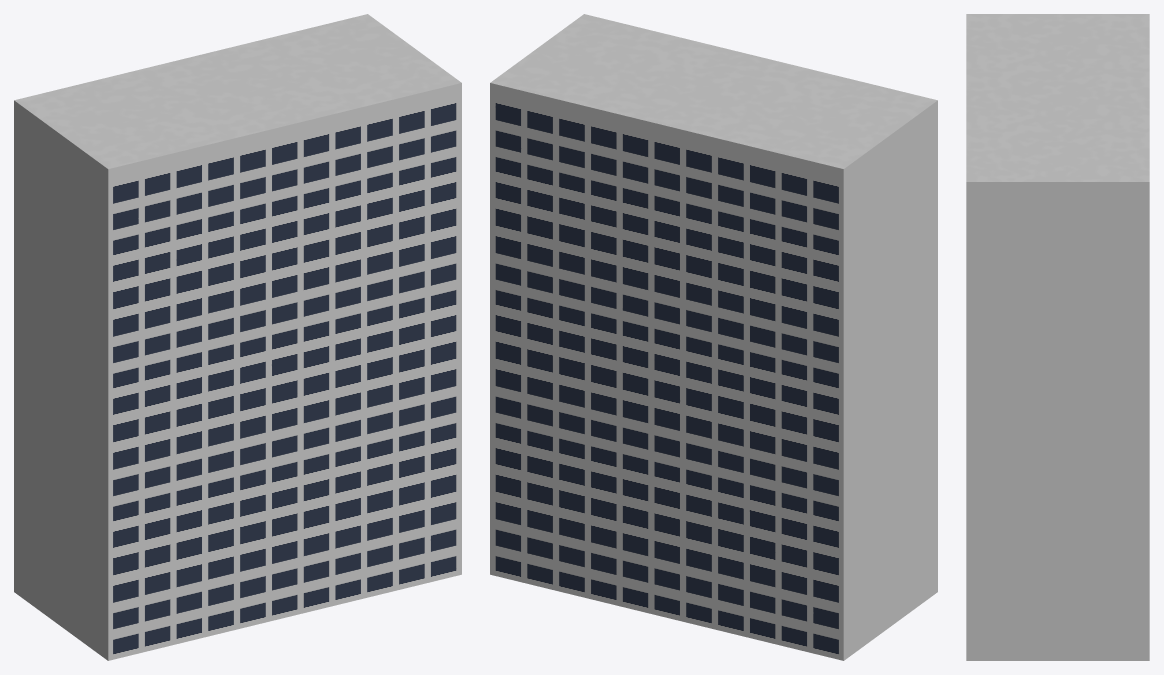
Rendered from Building_LM_W4_001.fbx.
3 renders of one model, left to right at view 1: azimuth 30°, elevation 25°; view 2: azimuth 150°, elevation 25°; view 3: azimuth 270°, elevation 25°, orthographic. The views are drawn at different scales.
Parts seen in each view (by area): view 1: Building_LM_W4_001; view 2: Building_LM_W4_001; view 3: Building_LM_W4_001.
Boxes of the visible parts, x1,y1,x2,y2 form: Building_LM_W4_001: (14,14,461,660); Building_LM_W4_001: (490,14,937,660); Building_LM_W4_001: (966,14,1149,660).
Bounding box in the file's own units: 61.33 × 81.46 × 28.26.
